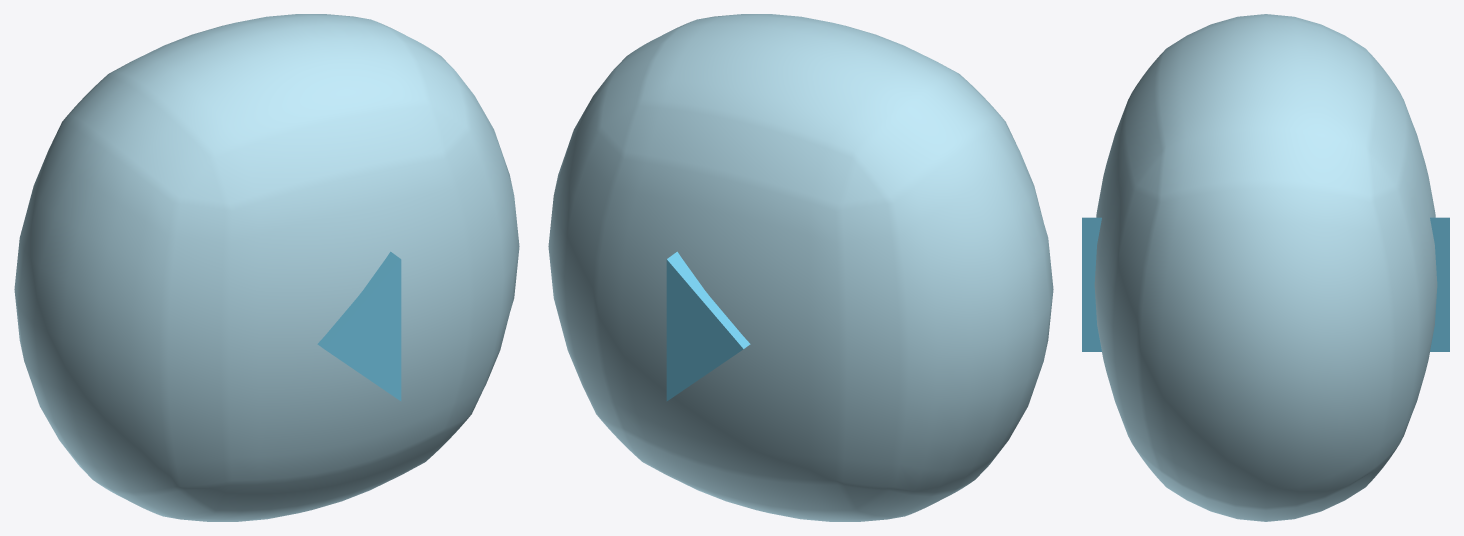
Rendered from play_button_animation_frame15.fbx.
3 renders of one model, left to right at view 1: azimuth 30°, elevation 25°; view 2: azimuth 150°, elevation 25°; view 3: azimuth 270°, elevation 25°, orthographic. The views are drawn at different scales.
Parts seen in each view (by area): view 1: Button, Triangle; view 2: Button, Triangle; view 3: Button, Triangle.
Boxes of the visible parts, bbox=[...] form: Button: bbox=[14, 14, 519, 521]; Triangle: bbox=[317, 251, 401, 401]; Button: bbox=[548, 14, 1053, 521]; Triangle: bbox=[666, 251, 750, 401]; Button: bbox=[1094, 14, 1437, 521]; Triangle: bbox=[1082, 217, 1449, 351].
Bounding box in the file's own units: 338 × 325 × 245.
